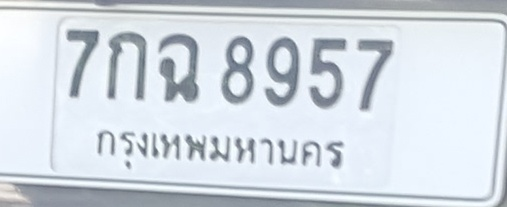num7: (62, 26, 99, 99)
txt01: (105, 28, 147, 102)
txt07: (157, 31, 200, 103)
